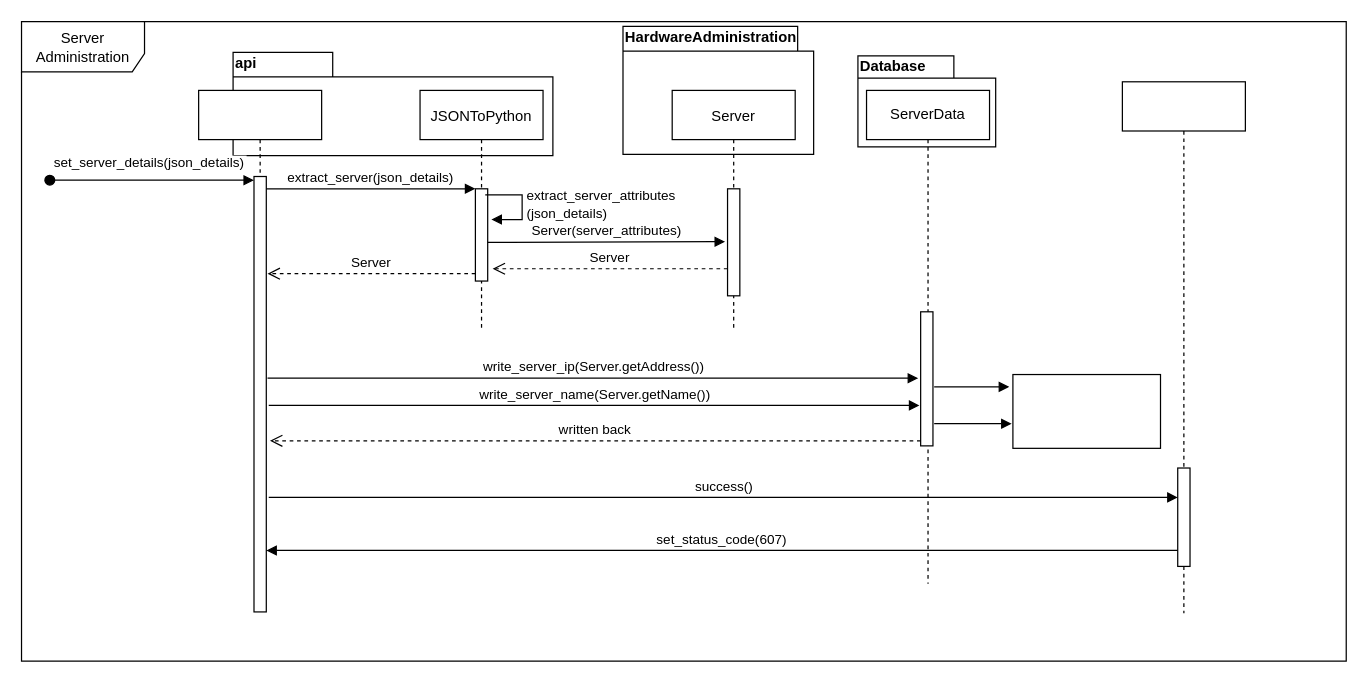
Some shapes in this 1368 by 683 pixel diagram are drawn without their labels. Each missing label, with the box of its shape:
ExceptionHandler: (1121, 81, 1245, 613)
MySQL Database: (1012, 373, 1161, 448)
singleton: FrontendAPI: (197, 89, 322, 612)
